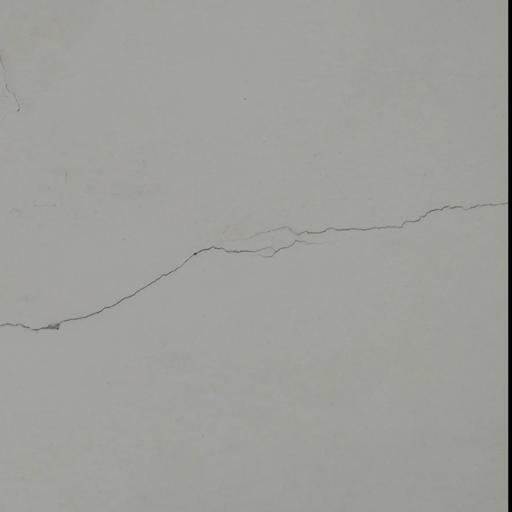major_crack: (0, 187, 512, 339)
